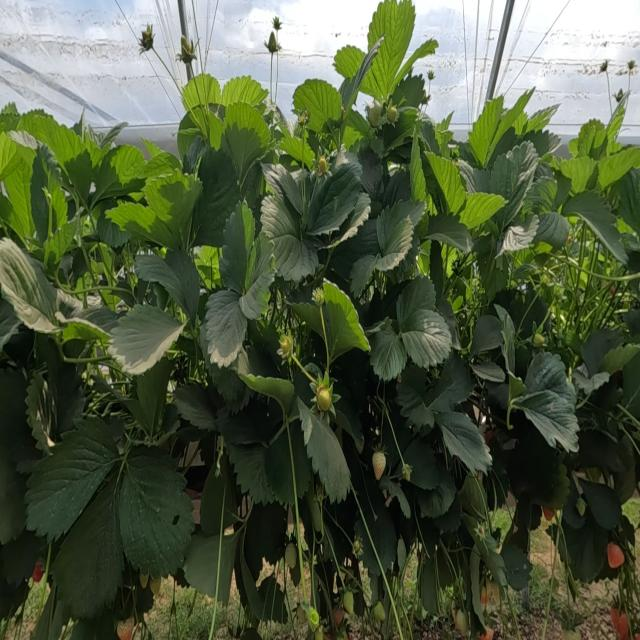Flowers: (313, 287, 324, 305), (627, 60, 636, 75), (599, 60, 607, 72), (427, 69, 435, 80)
Leaves: (25, 417, 119, 540), (54, 469, 123, 619), (118, 447, 194, 578), (15, 112, 91, 203), (345, 445, 398, 574), (292, 283, 370, 363), (360, 1, 414, 103), (260, 194, 320, 281), (505, 416, 563, 506), (109, 304, 182, 374), (351, 200, 414, 281), (511, 379, 579, 451), (305, 151, 363, 235), (1, 238, 56, 325), (301, 407, 351, 502), (563, 190, 627, 263), (135, 248, 199, 320), (192, 150, 239, 248), (386, 405, 439, 490), (399, 282, 451, 368), (490, 142, 539, 231), (41, 341, 84, 440), (0, 368, 41, 471), (236, 346, 294, 411), (0, 130, 34, 239), (225, 102, 270, 182), (30, 148, 67, 245), (322, 280, 367, 359), (201, 289, 246, 364), (90, 144, 146, 204), (569, 101, 625, 161), (563, 508, 608, 582), (146, 175, 202, 233), (244, 502, 287, 577), (329, 217, 379, 281), (437, 412, 491, 471), (108, 203, 180, 247), (525, 352, 576, 412), (135, 357, 173, 435), (427, 350, 474, 412), (241, 233, 275, 318), (200, 456, 237, 534), (226, 444, 274, 503), (1, 442, 27, 544), (376, 200, 423, 256), (0, 530, 47, 585), (218, 397, 271, 445), (575, 475, 622, 529), (396, 362, 435, 427), (293, 80, 342, 131), (25, 375, 57, 453), (218, 207, 247, 292), (427, 152, 466, 214), (369, 319, 407, 381), (30, 581, 69, 639), (470, 97, 503, 165), (265, 426, 294, 503), (183, 536, 219, 597), (574, 430, 624, 473), (172, 383, 216, 430), (526, 163, 570, 210), (495, 88, 534, 140), (581, 328, 622, 375), (264, 165, 302, 215), (65, 306, 118, 340), (474, 535, 507, 588), (614, 169, 640, 236), (381, 107, 417, 155), (598, 146, 639, 188), (460, 193, 503, 233), (426, 214, 471, 251), (241, 547, 263, 618), (140, 143, 181, 181), (181, 73, 221, 111), (70, 608, 119, 639), (191, 105, 224, 149), (418, 479, 455, 518), (500, 544, 531, 590), (470, 314, 503, 357), (222, 75, 266, 107), (495, 305, 515, 374), (279, 130, 315, 168), (488, 127, 522, 167), (514, 105, 559, 135), (358, 146, 383, 199), (218, 535, 237, 604), (459, 473, 486, 521), (561, 157, 595, 194), (533, 213, 570, 247), (418, 559, 440, 615), (470, 546, 485, 628), (503, 215, 537, 251), (572, 363, 610, 395), (97, 214, 130, 248), (520, 130, 560, 157), (459, 159, 490, 193), (333, 45, 363, 79), (433, 498, 462, 533), (472, 361, 504, 383), (307, 489, 323, 531), (516, 88, 534, 104)
Strawberries: (611, 607, 627, 639), (178, 36, 195, 64), (372, 450, 386, 479), (265, 33, 281, 58), (139, 25, 154, 51), (607, 543, 623, 567), (116, 619, 134, 639), (486, 581, 500, 606), (316, 388, 331, 411), (368, 103, 382, 127), (454, 610, 467, 635), (284, 542, 296, 568), (343, 590, 354, 615), (279, 335, 292, 356), (148, 577, 161, 597), (332, 604, 343, 627), (32, 562, 43, 582), (561, 628, 581, 639), (373, 601, 383, 621), (480, 585, 491, 603), (614, 88, 627, 103), (297, 604, 307, 623), (576, 497, 586, 516), (386, 107, 398, 122), (478, 628, 494, 639), (318, 156, 327, 173), (272, 15, 282, 30), (543, 507, 554, 520), (533, 333, 543, 347), (140, 574, 149, 588)
